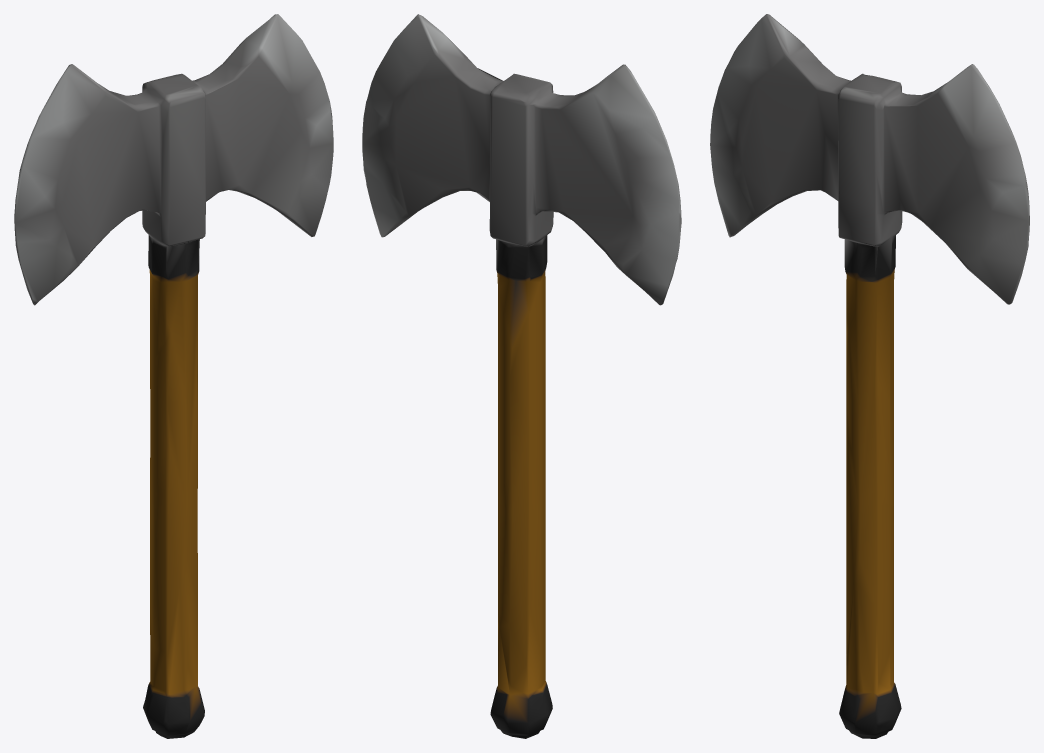
Rendered from gen3d-battle-axe-lod1.glb.
The picture shows the model from 3 angles, left to right: view 1: azimuth 30°, elevation 25°; view 2: azimuth 150°, elevation 25°; view 3: azimuth 330°, elevation 25°; orthographic projection.
Visible parts, largest first — view 1: part_0; view 2: part_0; view 3: part_0.
Boxes of the visible parts, <box> form: part_0: <box>14,14,333,738</box>; part_0: <box>362,14,681,738</box>; part_0: <box>710,14,1029,738</box>.
Size of the model in its own units: 0.4817 by 0.9993 by 0.0805.
